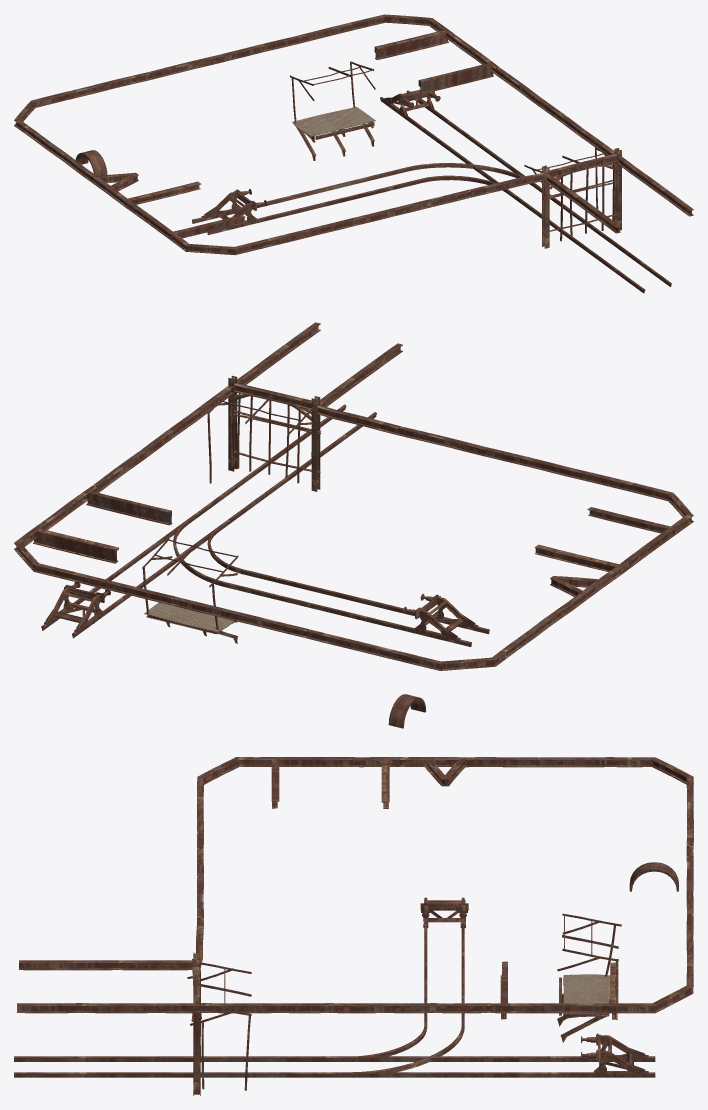
File: SM_TheSamePlace_01_Metal_01.fbx
3 views of the same model, one above another, from view 1: azimuth 30°, elevation 25°; view 2: azimuth 150°, elevation 25°; view 3: azimuth 270°, elevation 25° (orthographic). The views are drawn at different scales.
Visible parts, largest first — view 1: SM_TheSamePlace_01_Metal_01; view 2: SM_TheSamePlace_01_Metal_01; view 3: SM_TheSamePlace_01_Metal_01.
Part boxes in pixels (bbox=[...]): SM_TheSamePlace_01_Metal_01: bbox=[14, 14, 693, 293]; SM_TheSamePlace_01_Metal_01: bbox=[14, 322, 693, 728]; SM_TheSamePlace_01_Metal_01: bbox=[14, 757, 693, 1095].
Bounding box in the file's own units: 4338 × 845 × 5002.
